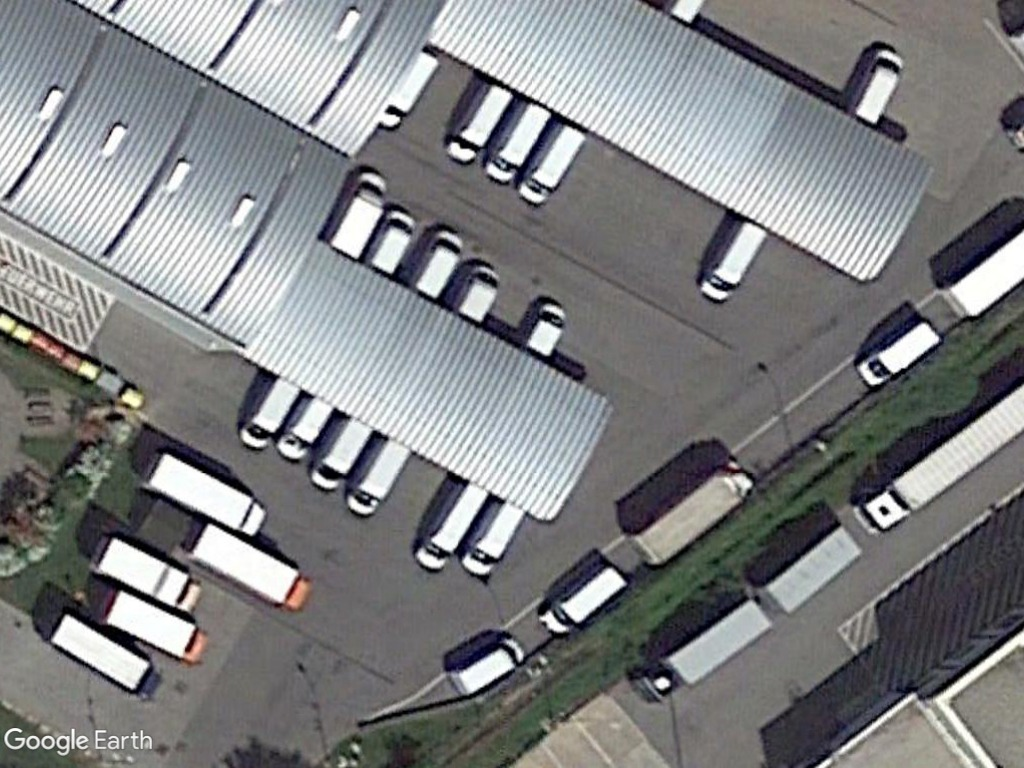truck: (851, 398, 1023, 533), (625, 593, 776, 702), (632, 458, 759, 564), (137, 450, 269, 540), (191, 523, 314, 610), (47, 612, 163, 701), (84, 534, 204, 612), (97, 589, 213, 662), (325, 173, 392, 262)
van: (535, 562, 633, 639), (411, 477, 487, 570), (846, 316, 942, 389), (478, 95, 553, 182), (454, 495, 532, 578), (516, 118, 588, 206), (698, 217, 768, 306), (338, 439, 414, 519), (444, 81, 514, 165), (237, 367, 301, 455), (443, 636, 531, 697), (304, 413, 372, 490), (404, 231, 470, 303), (850, 46, 908, 125), (365, 209, 420, 273)
